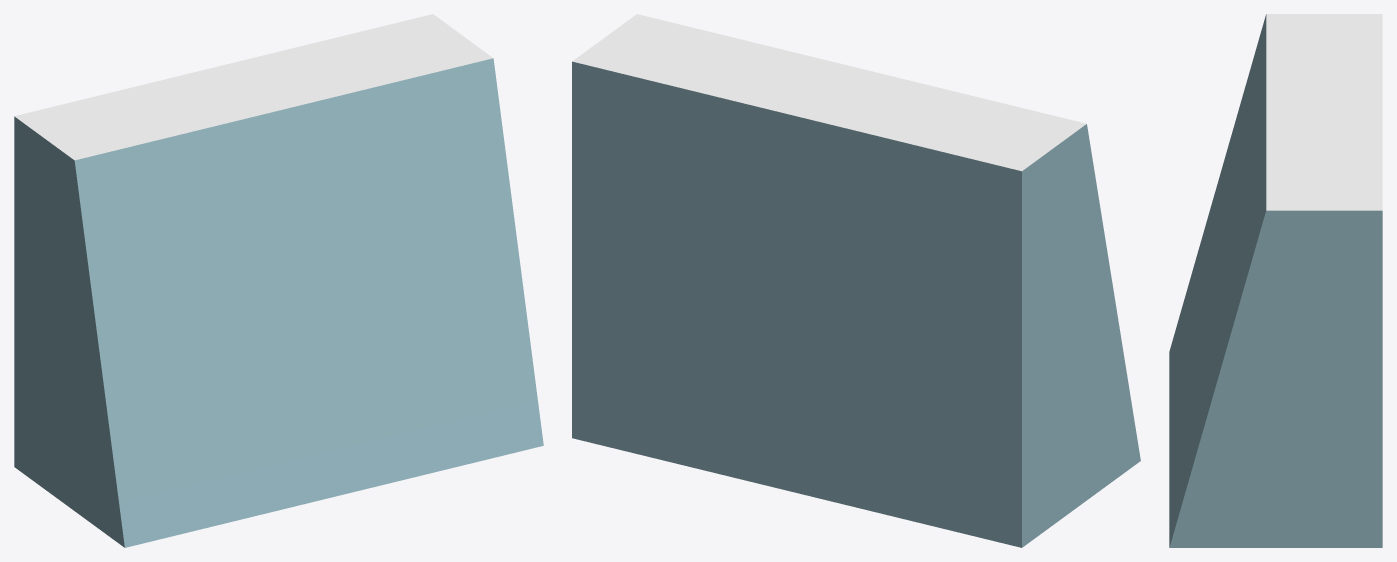
Rendered from Terrain_Modular_Tiles_Snow_Ice_Cliff_Side_Outer_01.fbx.
3 renders of one model, left to right at view 1: azimuth 30°, elevation 25°; view 2: azimuth 150°, elevation 25°; view 3: azimuth 270°, elevation 25°, orthographic. The views are drawn at different scales.
Parts seen in each view (by area): view 1: Terrain_Modular_Tiles_Snow_Ice_Cliff_Side_Outer_01; view 2: Terrain_Modular_Tiles_Snow_Ice_Cliff_Side_Outer_01; view 3: Terrain_Modular_Tiles_Snow_Ice_Cliff_Side_Outer_01.
Boxes of the visible parts, left/top/right/bottom form: Terrain_Modular_Tiles_Snow_Ice_Cliff_Side_Outer_01: left=14, top=14, right=543, bottom=547; Terrain_Modular_Tiles_Snow_Ice_Cliff_Side_Outer_01: left=572, top=14, right=1140, bottom=547; Terrain_Modular_Tiles_Snow_Ice_Cliff_Side_Outer_01: left=1169, top=14, right=1382, bottom=547.
Size of the model in its own units: 118 by 94.49 by 54.07.
